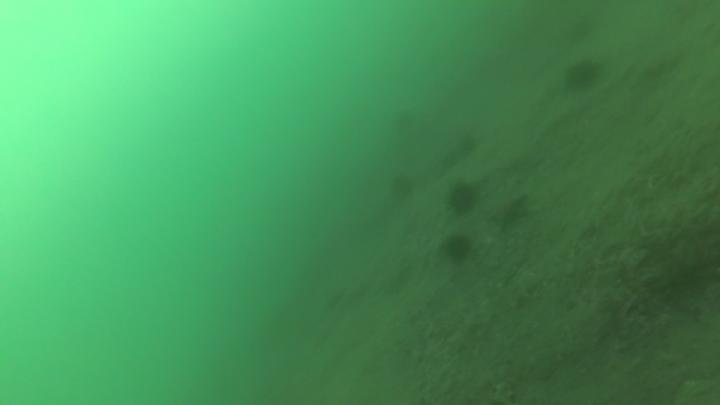echinus: (558, 56, 603, 94), (436, 234, 478, 268), (446, 181, 481, 218), (386, 171, 419, 207), (392, 107, 419, 135)
starfish: (490, 192, 539, 233)
